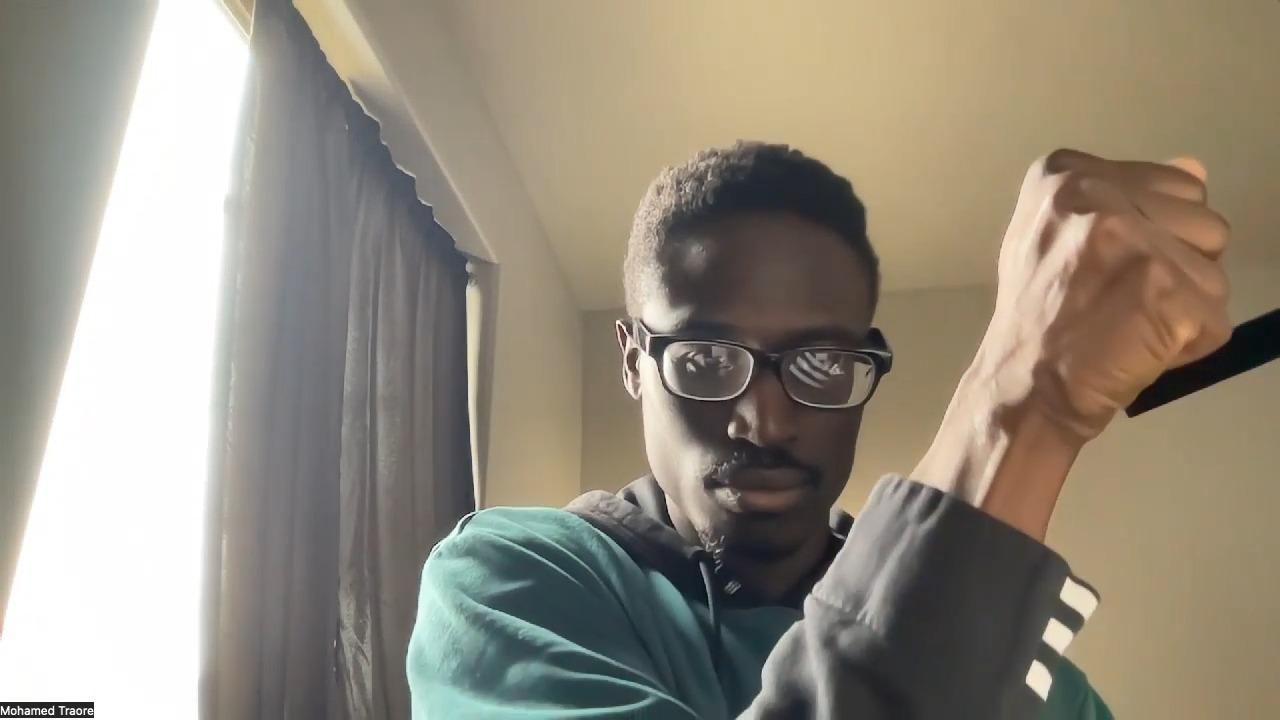Rock: (993, 142, 1231, 435)
